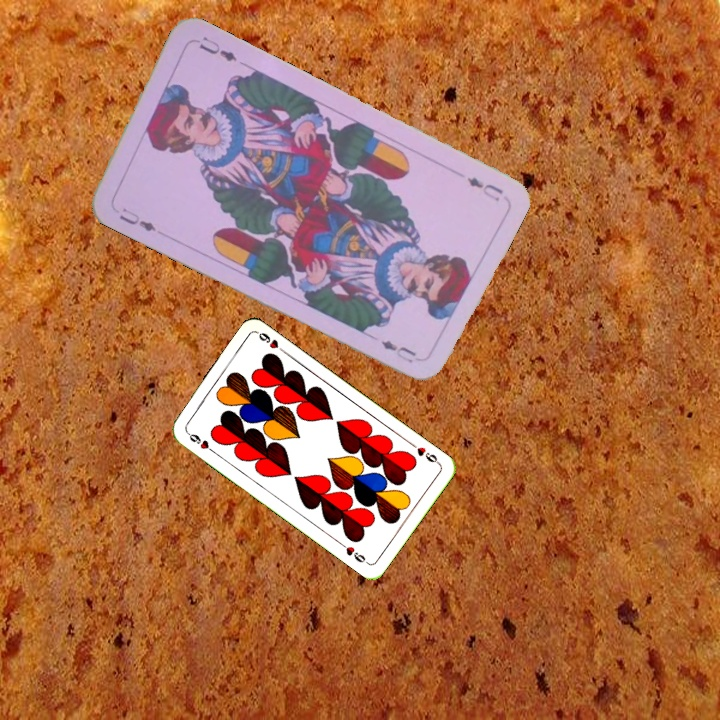EU: (115, 203, 159, 235), (463, 173, 506, 204)
H9: (183, 427, 218, 456), (407, 439, 442, 467)
